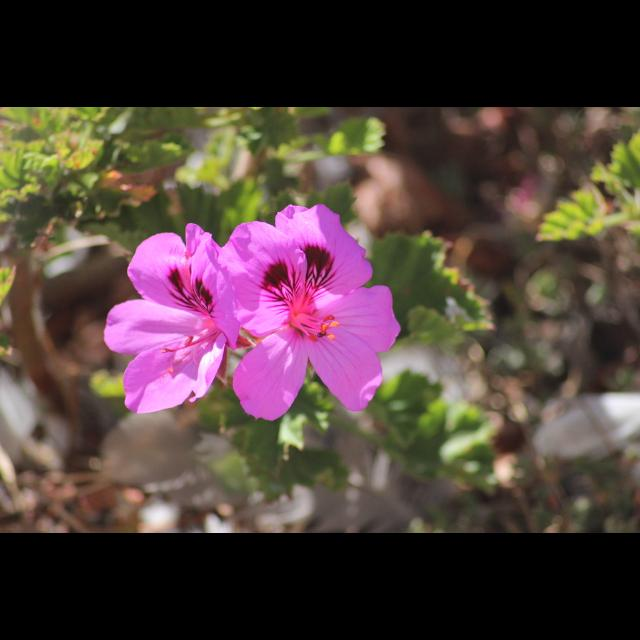Flower: (180, 200, 406, 420), (105, 222, 252, 416)
